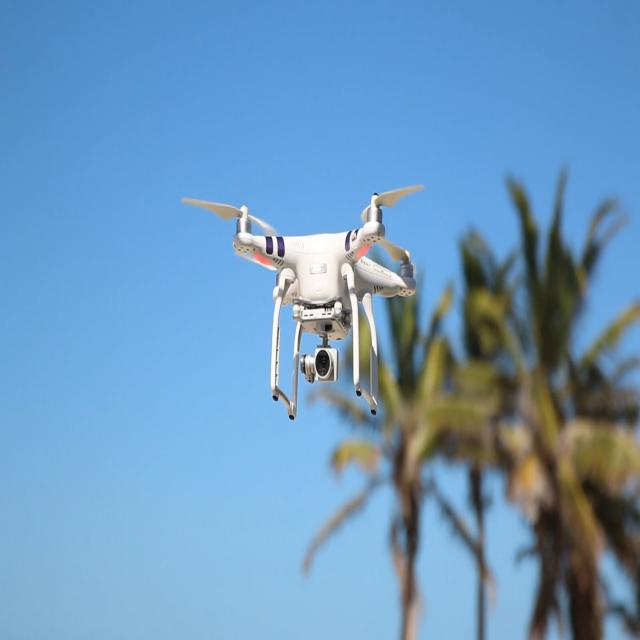Drone: (187, 169, 470, 440)
